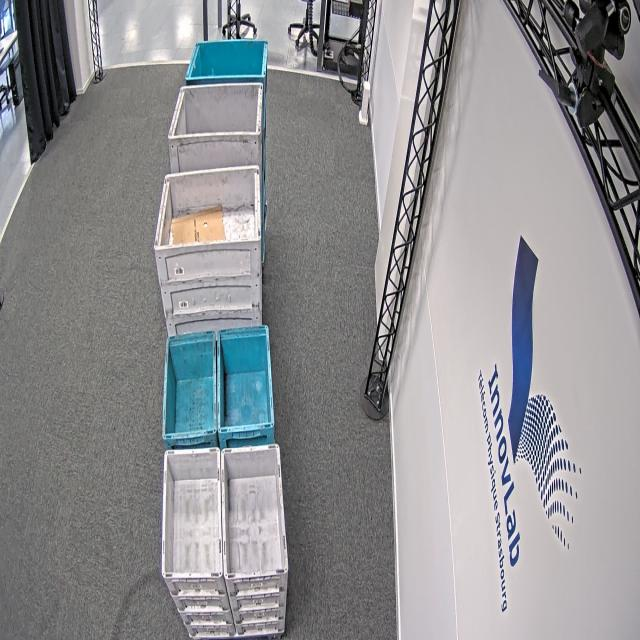Roll3G: (152, 164, 263, 255)
Roll4G: (168, 82, 265, 142)
Roll8G: (160, 442, 291, 583)
RollB4: (182, 37, 270, 83)
RollB8: (160, 324, 276, 444)
